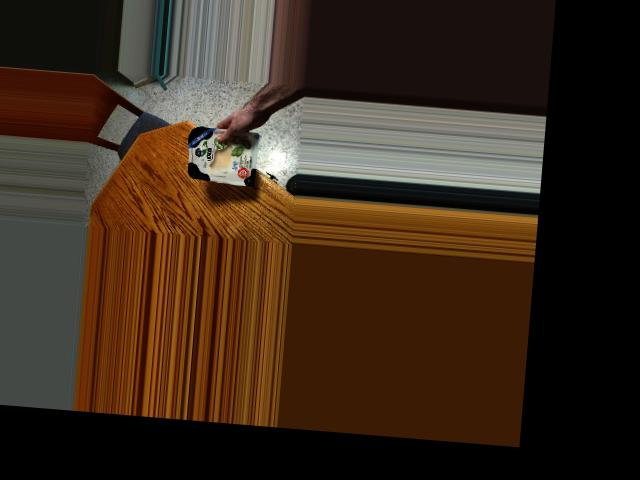cheese: (169, 122, 275, 187)
